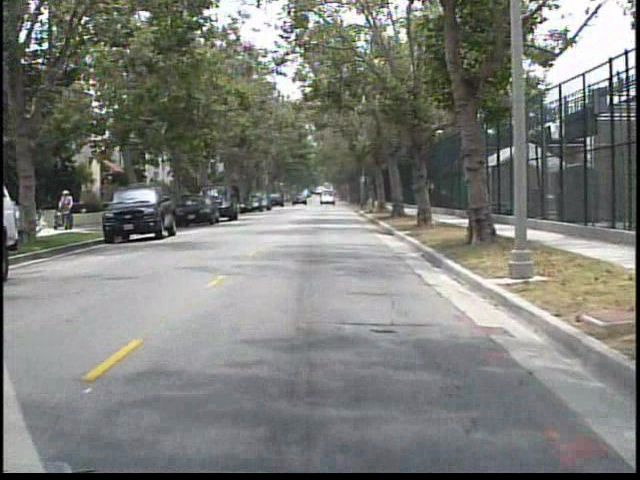person: (58, 188, 80, 233)
